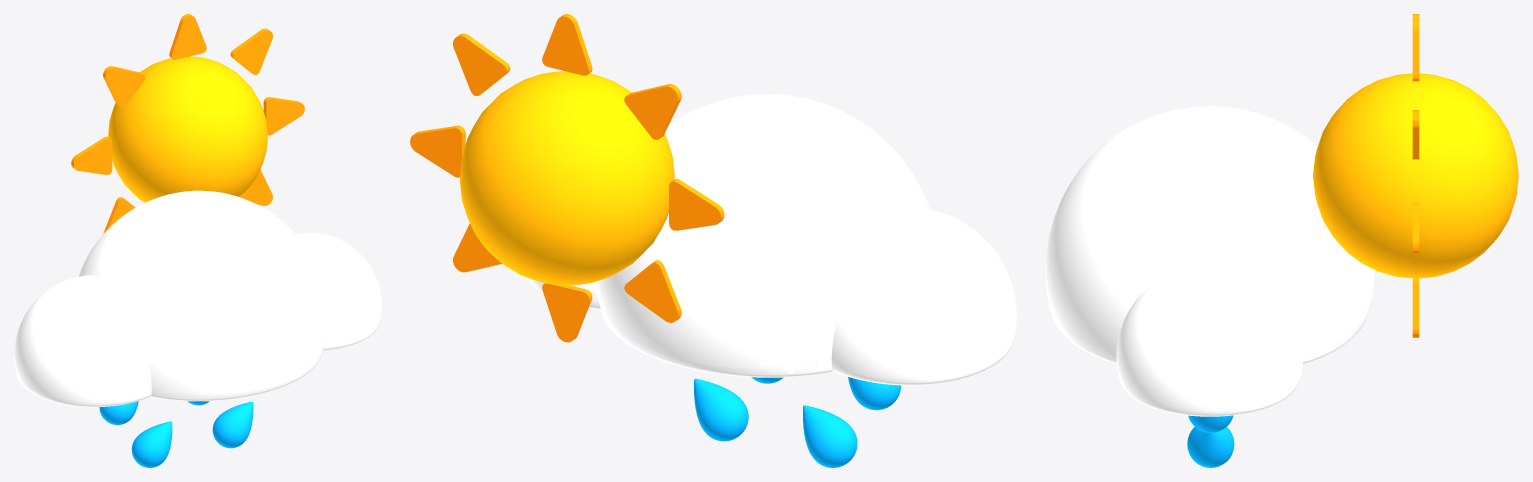
File: sun_behind_rain_cloud.glb
3 views of the same model, side by side, from view 1: azimuth 30°, elevation 25°; view 2: azimuth 150°, elevation 25°; view 3: azimuth 270°, elevation 25° (orthographic). The views are drawn at different scales.
Parts seen in each view (by area): view 1: Cube.206; view 2: Cube.206; view 3: Cube.206.
Part boxes in pixels (box(x1,y1,x2,y2)): Cube.206: box(14, 14, 381, 467); Cube.206: box(410, 14, 1016, 467); Cube.206: box(1045, 14, 1518, 467).
Size of the model in its own units: 2.22 by 2.15 by 1.97.
1 material, 1 textured.
